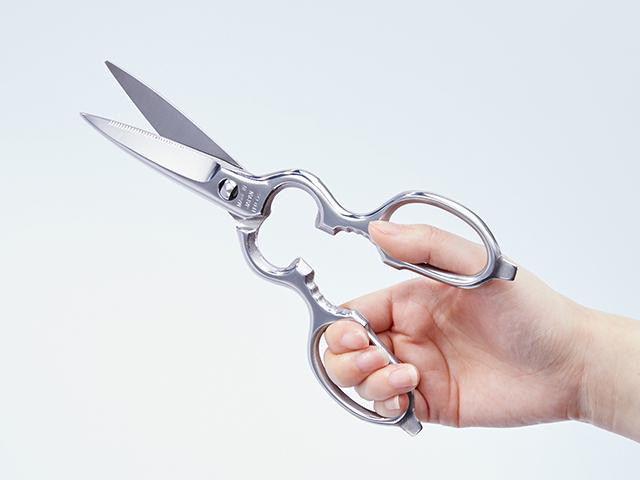scissor: (81, 38, 529, 439)
